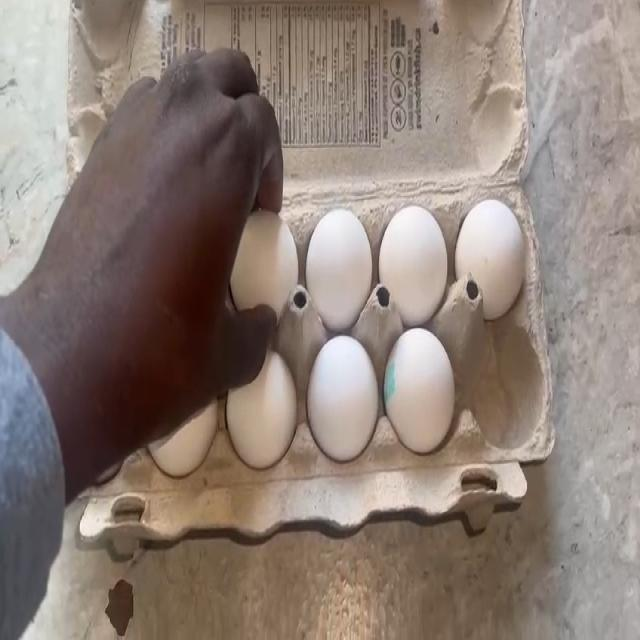Egg: (316, 332, 378, 454), (392, 325, 449, 440), (308, 212, 365, 314), (462, 200, 520, 298), (387, 213, 446, 308), (238, 206, 288, 310), (234, 384, 296, 462)
